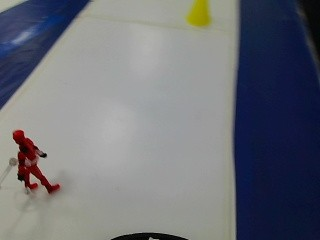cone: (182, 0, 217, 33)
pedestrian: (8, 124, 64, 197)
